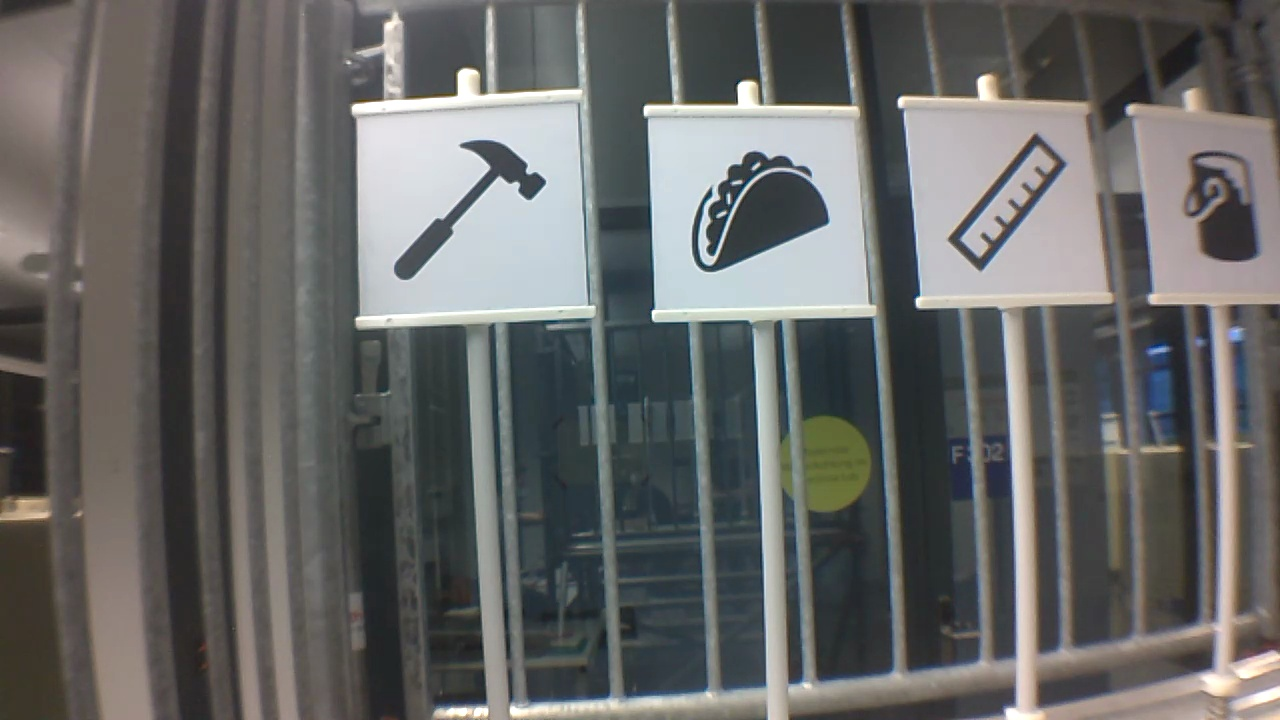bucket: (1173, 154, 1279, 279)
hammer: (391, 115, 564, 289)
ruler: (937, 129, 1059, 267)
taco: (686, 149, 834, 273)
